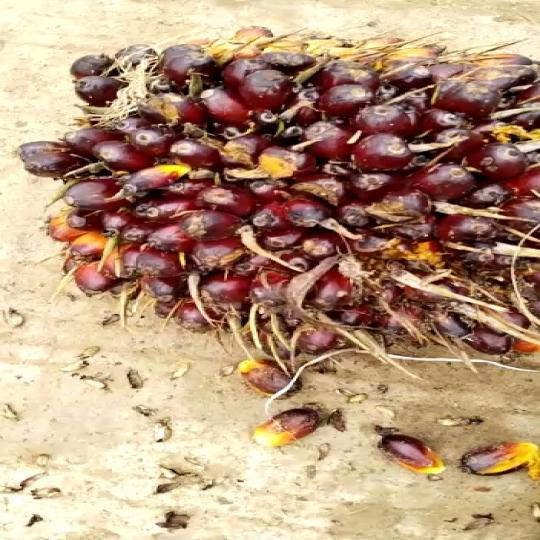kurang masak: (0, 3, 540, 377)
